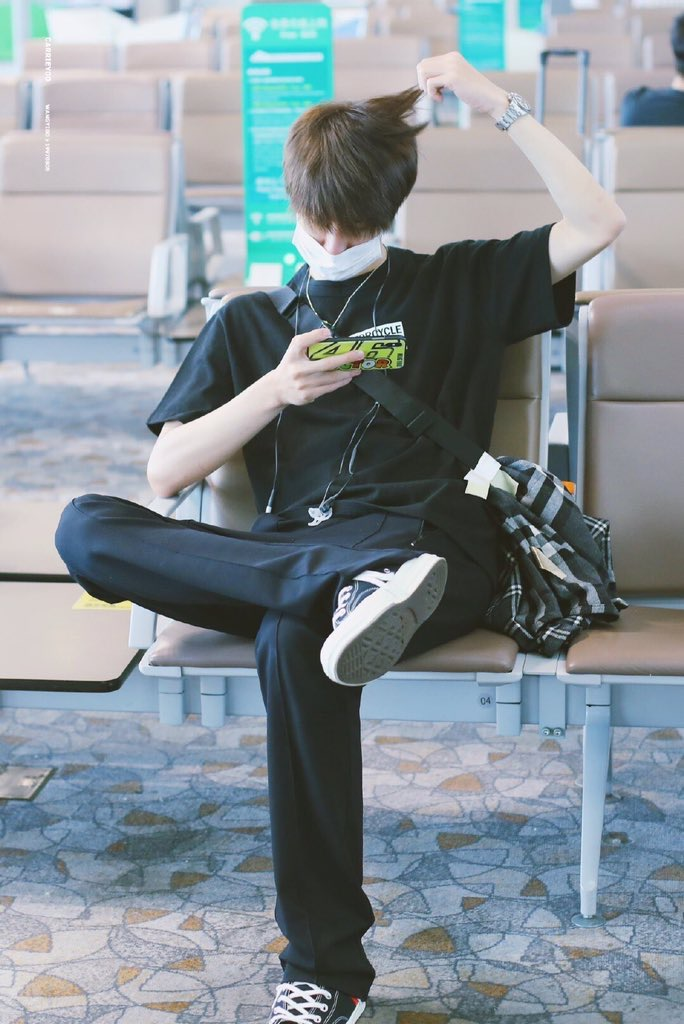bag: (427, 433, 602, 674)
people: (61, 85, 577, 1024)
